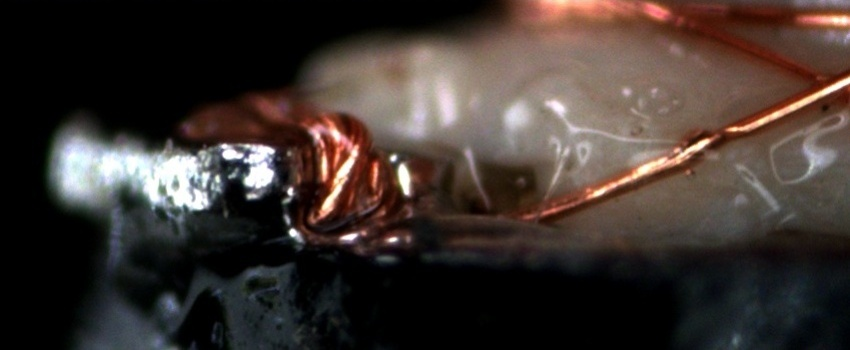CL: (781, 55, 847, 115)
TE: (286, 98, 400, 242)
